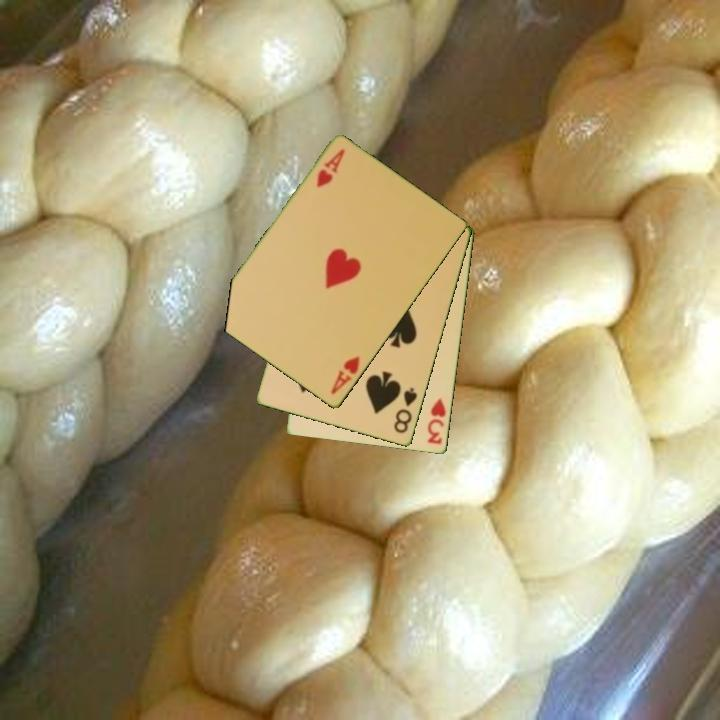3h: (424, 395, 449, 447)
8s: (390, 384, 421, 437)
Ah: (327, 353, 363, 398), (313, 146, 348, 191)
